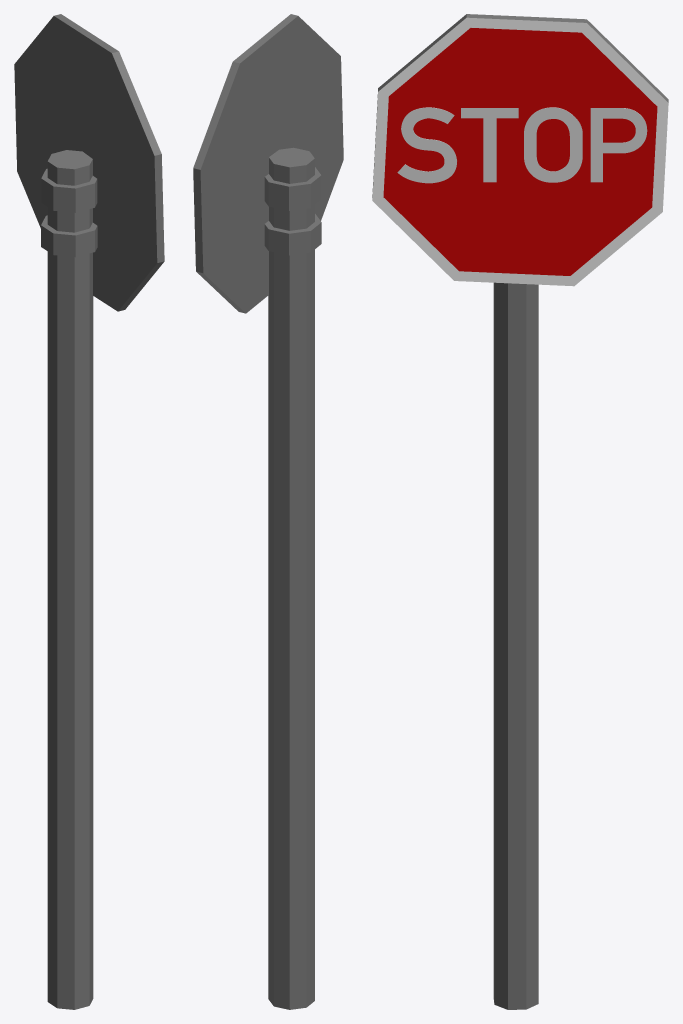
Rendered from Stopschild.glb.
3 views of the same model, side by side, from view 1: azimuth 30°, elevation 25°; view 2: azimuth 150°, elevation 25°; view 3: azimuth 270°, elevation 25° (orthographic). The views are drawn at different scales.
Parts seen in each view (by area): view 1: Cylinder, Plane; view 2: Cylinder, Plane; view 3: Plane, Cylinder, Text.
Part boxes in pixels (<box>): Cylinder: <box>41,150,97,1009</box>; Plane: <box>14,14,164,311</box>; Cylinder: <box>264,147,321,1009</box>; Plane: <box>193,14,343,313</box>; Plane: <box>372,14,668,286</box>; Cylinder: <box>493,282,538,1009</box>; Text: <box>397,107,647,183</box>.
Bounding box in the file's own units: 0.1713 × 3.17 × 0.856.
